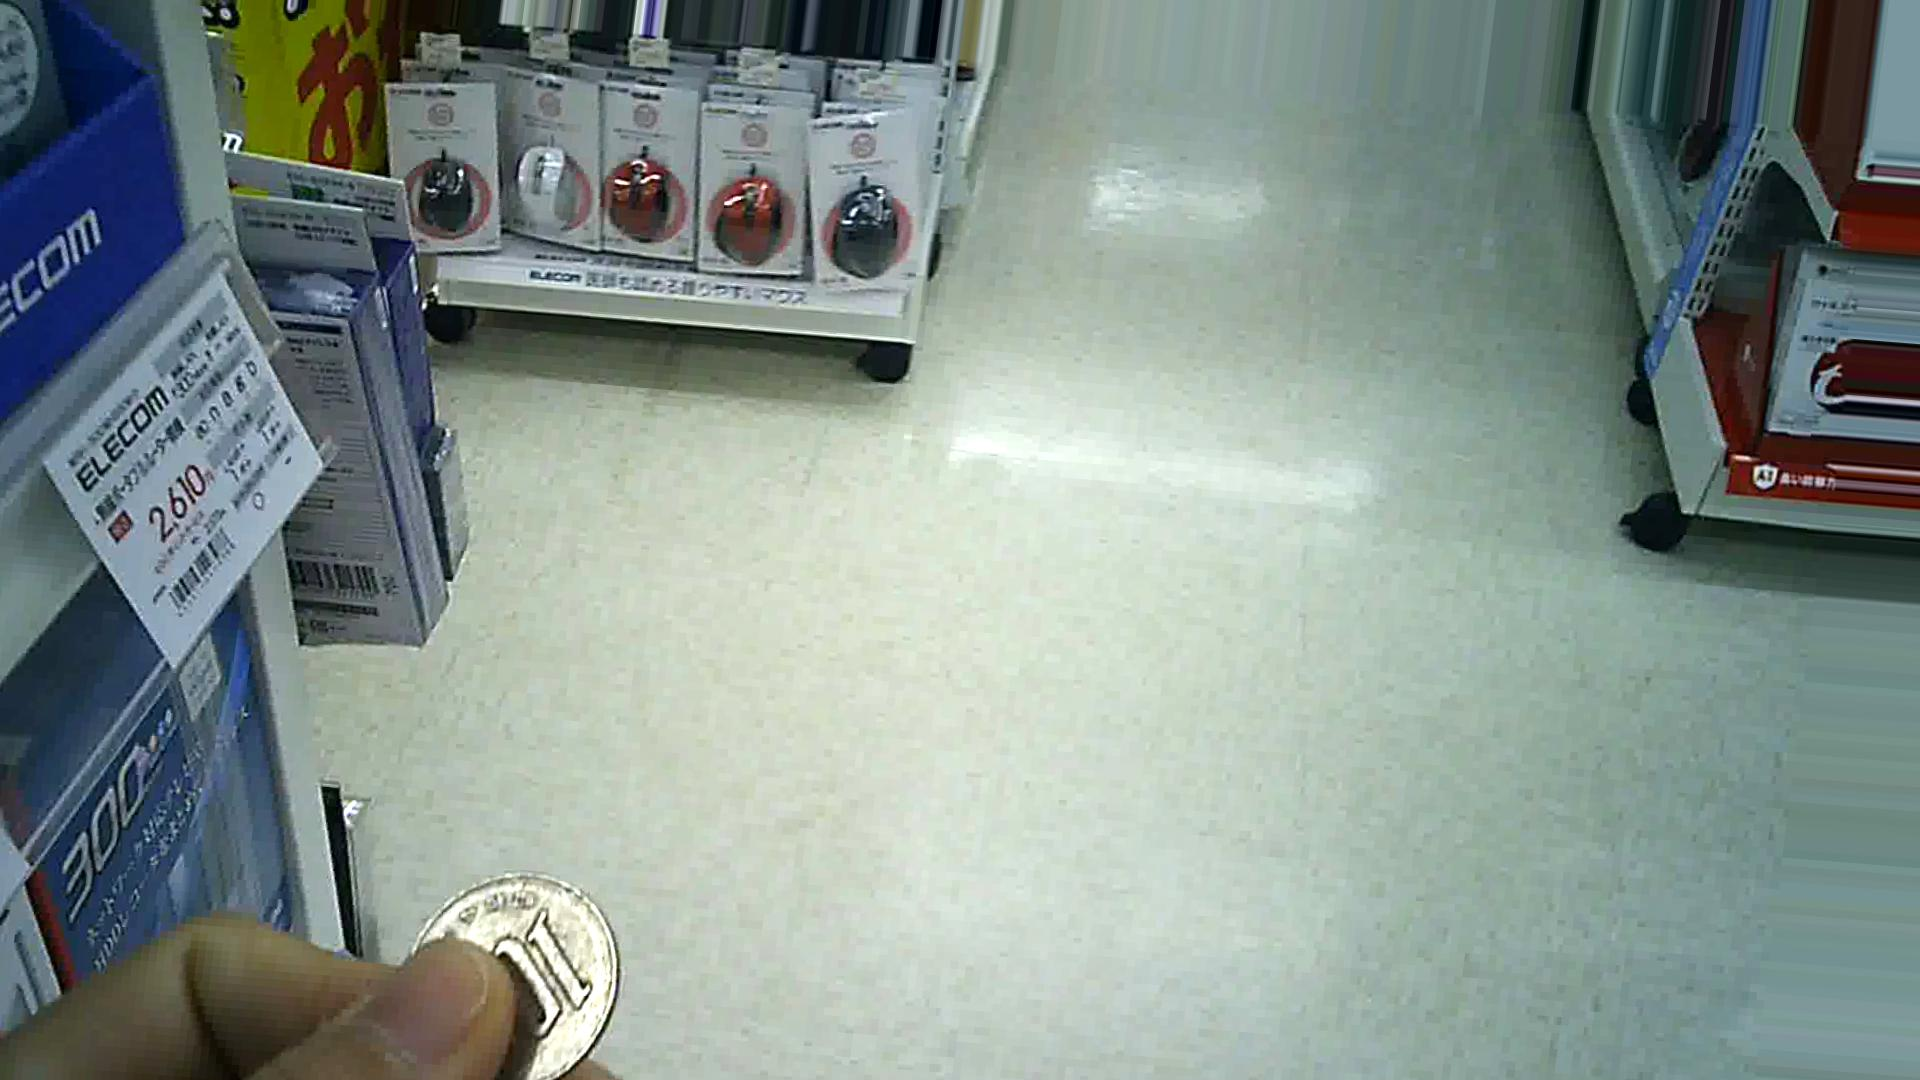100 Yen: (396, 860, 622, 1071)
